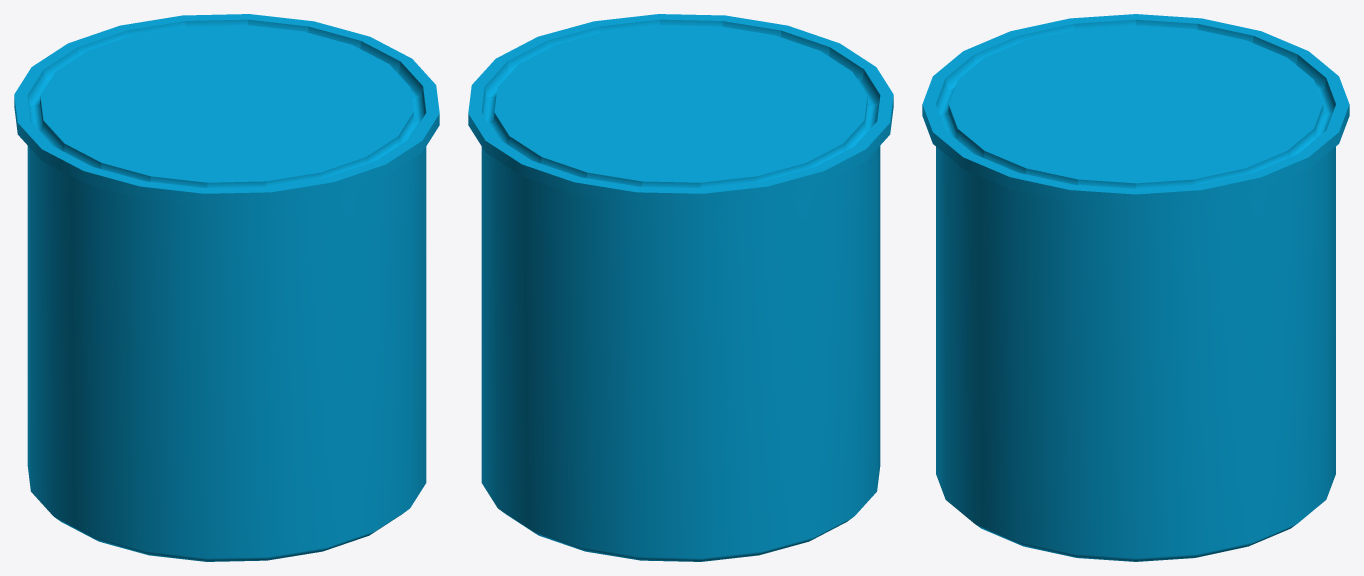
The model's file is Paint_Bucket_05_Lod0.fbx.
3 renders of one model, left to right at view 1: azimuth 30°, elevation 25°; view 2: azimuth 150°, elevation 25°; view 3: azimuth 270°, elevation 25°, orthographic.
Visible parts, largest first — view 1: Paint_Bucket_05_Lod0; view 2: Paint_Bucket_05_Lod0; view 3: Paint_Bucket_05_Lod0.
Boxes of the visible parts, x1,y1,x2,y2 form: Paint_Bucket_05_Lod0: (14, 14, 439, 561); Paint_Bucket_05_Lod0: (468, 14, 893, 561); Paint_Bucket_05_Lod0: (922, 14, 1349, 561).
Bounding box in the file's own units: 25.16 × 24.5 × 25.16.
